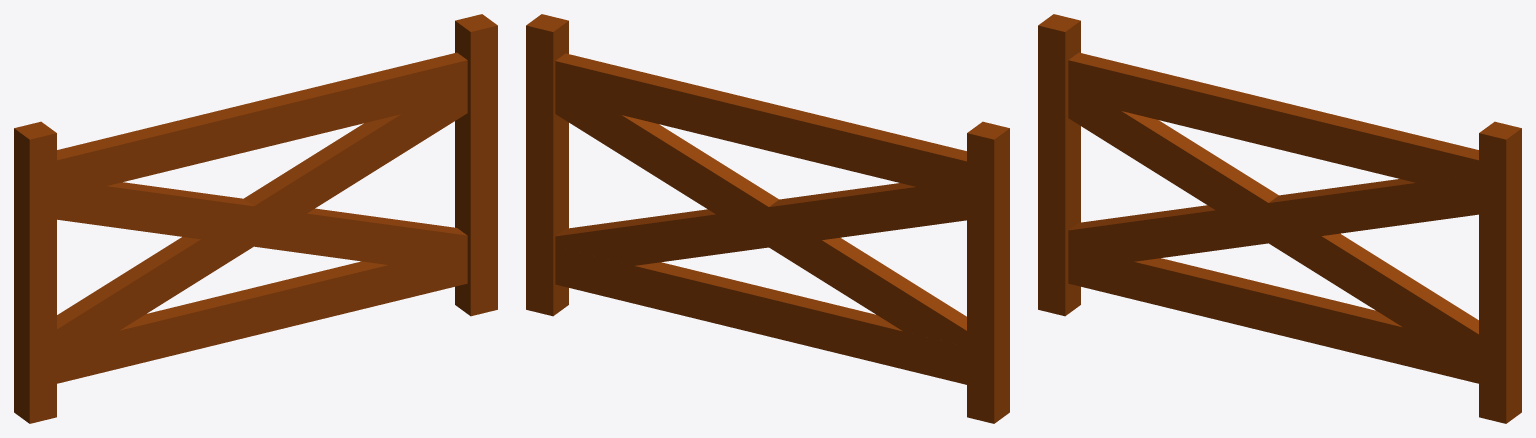
The model's file is cross_fences_2.FBX.
3 renders of one model, left to right at view 1: azimuth 30°, elevation 25°; view 2: azimuth 150°, elevation 25°; view 3: azimuth 330°, elevation 25°, orthographic.
Visible parts, largest first — view 1: cross_fences_2; view 2: cross_fences_2; view 3: cross_fences_2.
Boxes of the visible parts, x1,y1,x2,y2 form: cross_fences_2: (14, 14, 497, 423); cross_fences_2: (526, 14, 1009, 423); cross_fences_2: (1038, 14, 1521, 423).
Size of the model in its own units: 1.35 by 0.7815 by 0.0782.
Materials: 1 (1 with a texture image).
